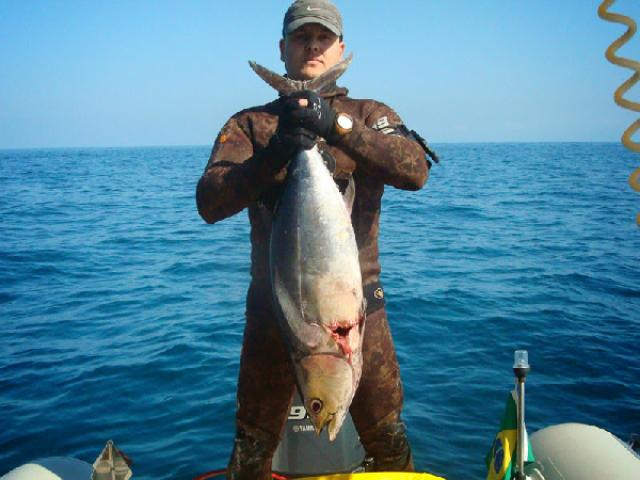Mulut: (302, 400, 361, 453)
Sirip Anal: (331, 164, 373, 228)
Sirip Dada: (258, 256, 352, 360)
Sirip Ekor: (232, 46, 378, 118)
Sirip Perut: (352, 286, 381, 344)
Sirip Punggung: (248, 188, 298, 250)
